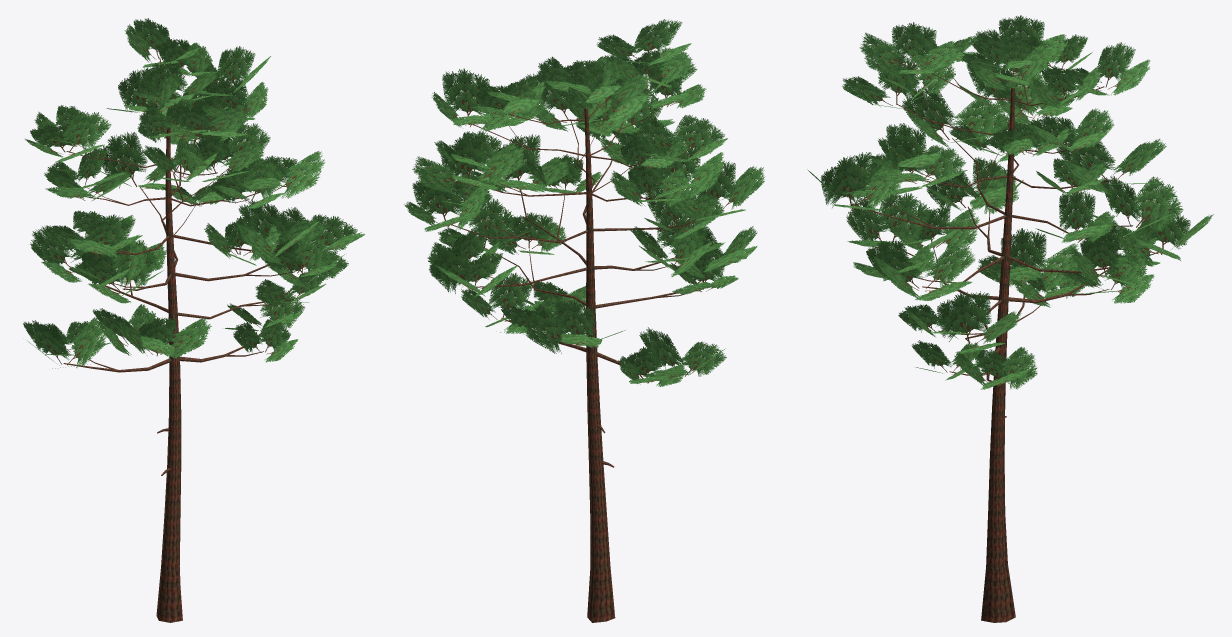
Rendered from pine_dalat_tall_lod1.glb.
The picture shows the model from 3 angles, left to right: view 1: azimuth 30°, elevation 25°; view 2: azimuth 150°, elevation 25°; view 3: azimuth 270°, elevation 25°; orthographic projection. The views are drawn at different scales.
Visible parts, largest first — view 1: pine_dalat_tall_lod1; view 2: pine_dalat_tall_lod1; view 3: pine_dalat_tall_lod1.
Boxes of the visible parts, x1,y1,x2,y2 form: pine_dalat_tall_lod1: (23, 18, 364, 622); pine_dalat_tall_lod1: (404, 19, 765, 622); pine_dalat_tall_lod1: (807, 15, 1213, 622).
Bounding box in the file's own units: 14.91 × 25.14 × 16.12.
2 materials, 2 textured.
